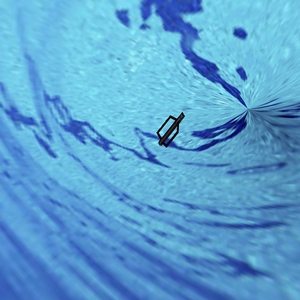submarine: (142, 93, 195, 156)
